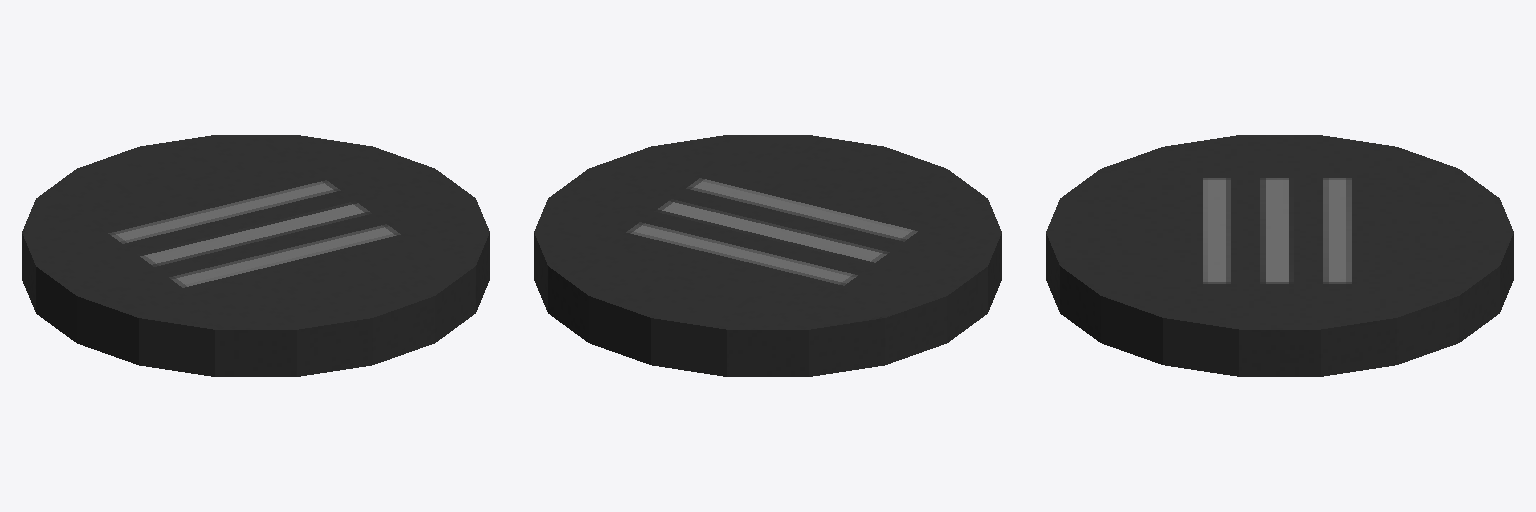
3 renders of one model, left to right at view 1: azimuth 30°, elevation 25°; view 2: azimuth 150°, elevation 25°; view 3: azimuth 270°, elevation 25°, orthographic.
Bounding box in the file's own units: 0.0094 × 0.0011 × 0.0095.
Materials: 1 (1 with a texture image).